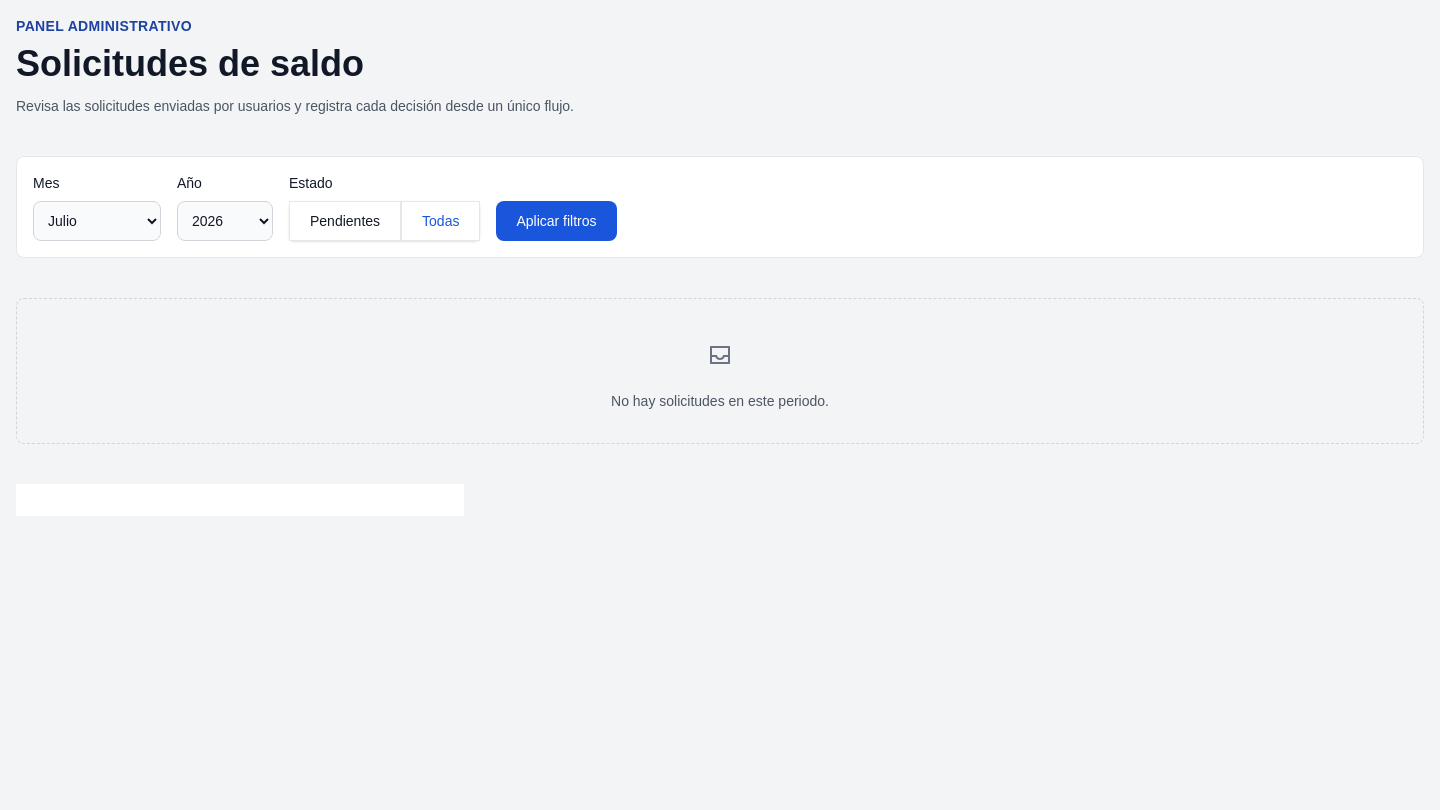
Test: BalanceAdminScreen › shows mode-aware empty state copy for Pendientes vs Todas
This screenshot has width=1440, height=810.
Check: the text "No hay solicitudes en este periodo." is shown, box [611,391,829,411]
Click the button "Pendientes" at (345, 221), box [289,201,401,241]
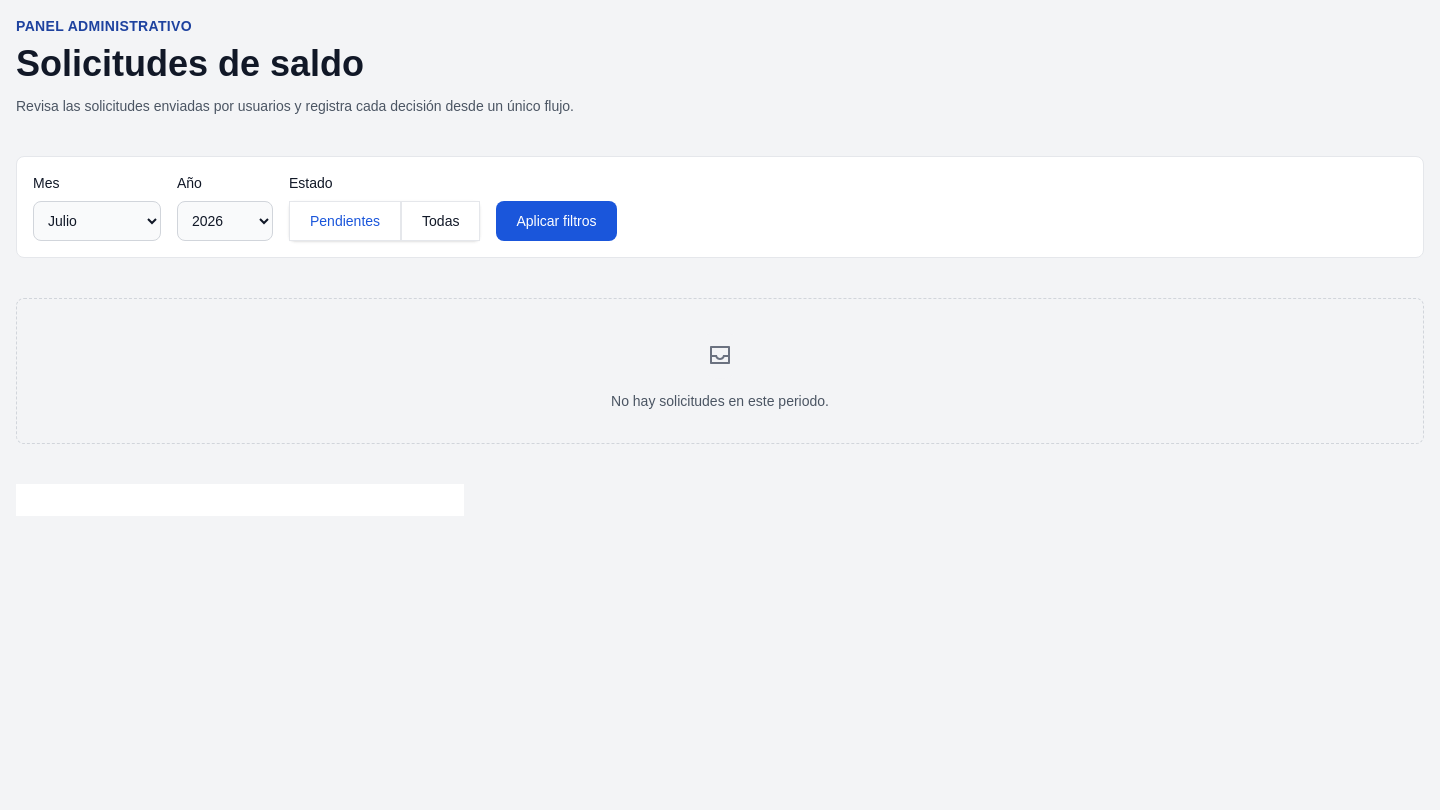
Click the button "Aplicar filtros" at (556, 221), box [496,201,616,241]
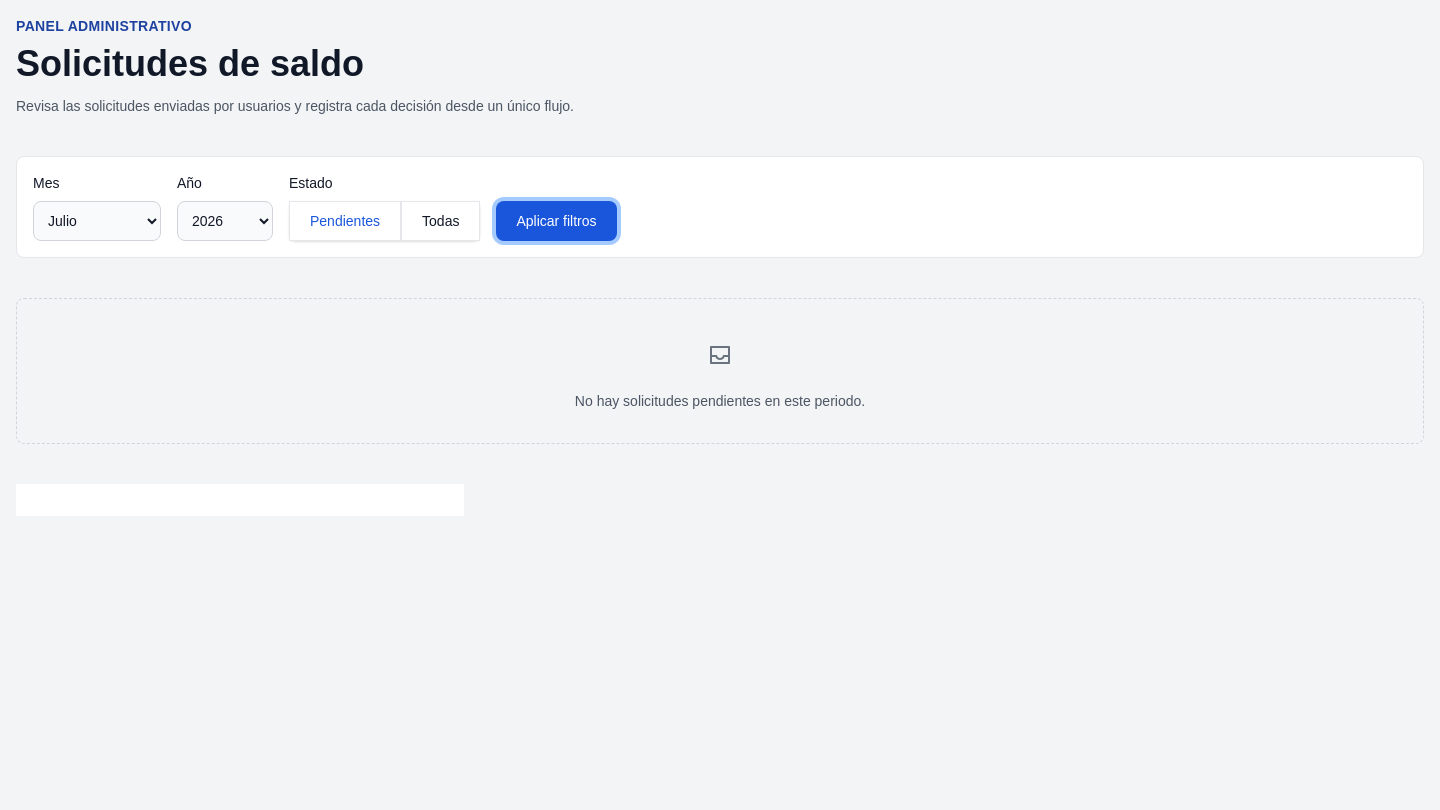
Check: the text "No hay solicitudes pendientes en este periodo." is shown, box [575,391,865,411]
